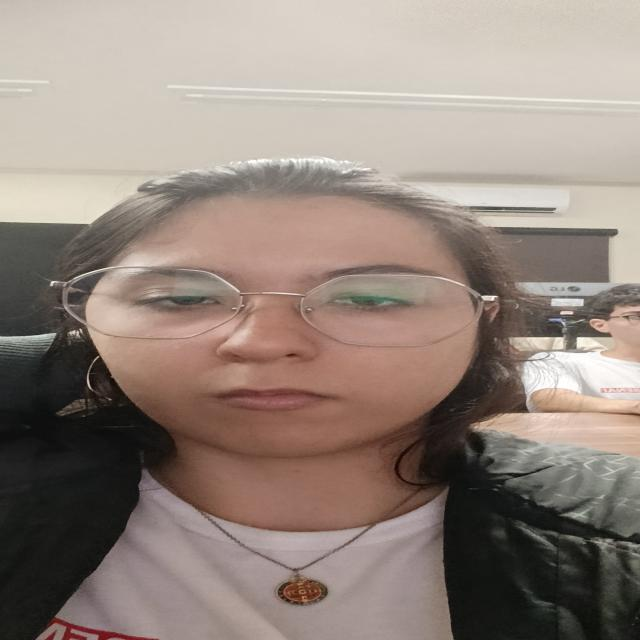sem_oculos: (62, 266, 495, 347)
